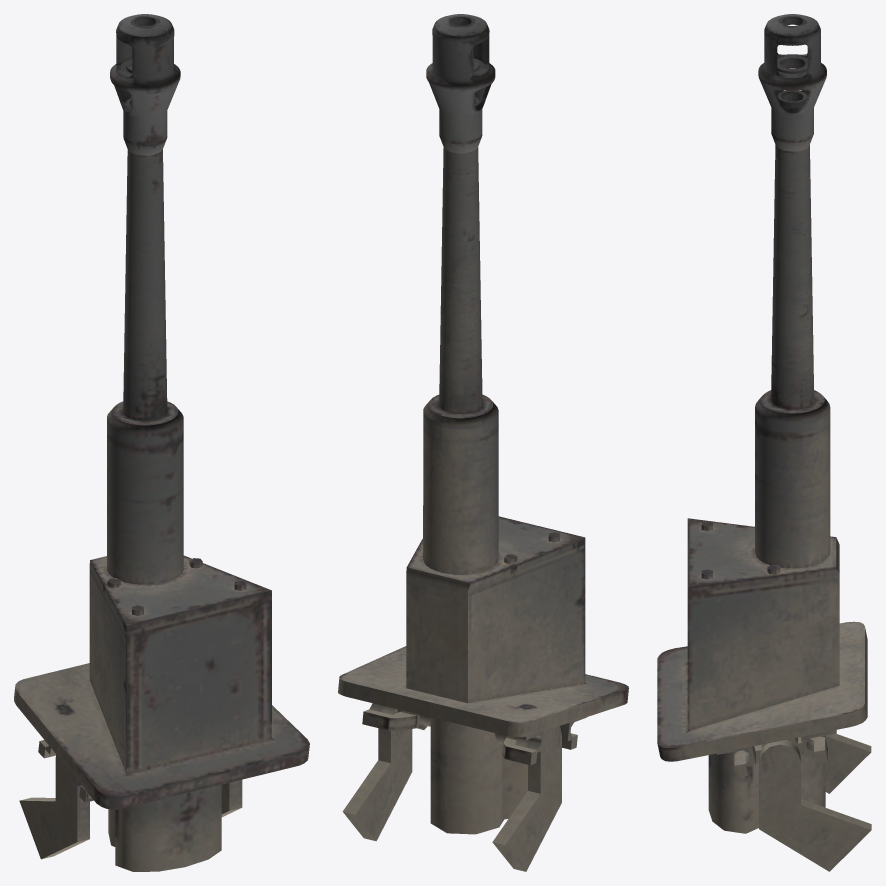
File: Gun_03.glb
3 views of the same model, side by side, from view 1: azimuth 30°, elevation 25°; view 2: azimuth 150°, elevation 25°; view 3: azimuth 270°, elevation 25° (orthographic). The views are drawn at different scales.
Visible parts, largest first — view 1: set_0_group_0; view 2: set_0_group_0; view 3: set_0_group_0.
Part boxes in pixels (x1,y1,x2,y2): set_0_group_0: [14, 14, 309, 871]; set_0_group_0: [338, 14, 628, 871]; set_0_group_0: [657, 14, 871, 871].
Size of the model in its own units: 0.8166 by 3.11 by 0.7431.
Materials: 1 (1 with a texture image).
